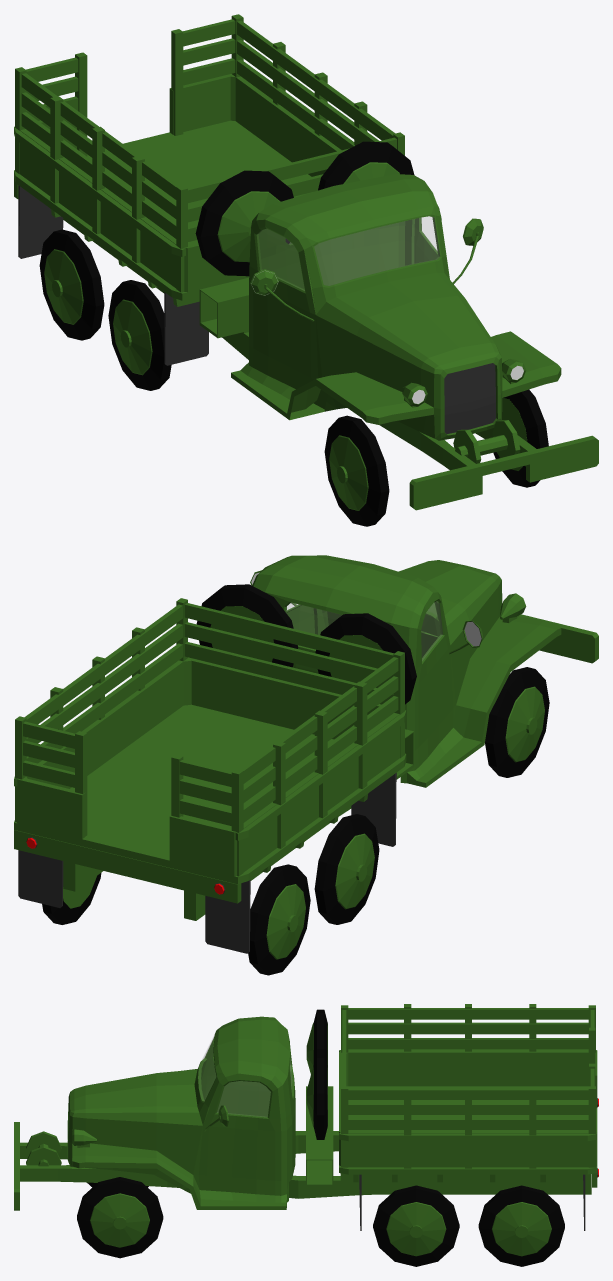
3 views of the same model, one above another, from view 1: azimuth 30°, elevation 25°; view 2: azimuth 150°, elevation 25°; view 3: azimuth 270°, elevation 25° (orthographic). The views are drawn at different scales.
Visible parts, largest first — view 1: Plane.018, Plane.019, Plane.022, Cylinder.023, Cylinder.019, Plane.020, Cylinder.021, Cylinder.018, Plane.023; view 2: Plane.018, Cylinder.021, Cylinder.019, Cylinder.023, Plane.019, Cylinder.022, Plane.022, Plane.020, Plane.023; view 3: Plane.018, Plane.023, Cylinder.020, Cylinder.018, Cylinder.022, Plane.019, Plane.020, Plane.022.
Part boxes in pixels (box(x1,y1,x2,y2)): Plane.018: box(14, 14, 598, 510); Plane.019: box(249, 219, 318, 379); Plane.022: box(258, 216, 440, 289); Cylinder.023: box(39, 229, 104, 340); Cylinder.019: box(324, 415, 389, 526); Plane.020: box(286, 217, 439, 285); Cylinder.021: box(108, 280, 171, 390); Cylinder.018: box(493, 389, 548, 487); Plane.023: box(414, 205, 483, 283); Plane.018: box(14, 555, 598, 953); Cylinder.021: box(314, 814, 379, 924); Cylinder.019: box(485, 667, 549, 777); Cylinder.023: box(248, 864, 310, 975); Plane.019: box(415, 592, 482, 750); Cylinder.022: box(42, 873, 101, 924); Plane.022: box(285, 601, 440, 657); Plane.020: box(286, 603, 436, 634); Plane.023: box(250, 570, 314, 633); Plane.018: box(14, 1004, 598, 1230); Plane.023: box(199, 1073, 281, 1180); Cylinder.020: box(373, 1185, 459, 1266); Cylinder.018: box(77, 1177, 163, 1258); Cylinder.022: box(478, 1185, 564, 1266); Plane.019: box(205, 1056, 270, 1116); Plane.020: box(199, 1037, 292, 1100); Plane.022: box(198, 1036, 292, 1101).
Bounding box in the file's own units: 277 × 278 × 771.
